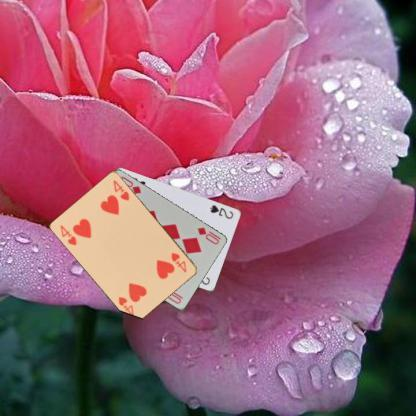10d: (195, 224, 223, 246)
2s: (208, 202, 235, 220)
4h: (58, 222, 78, 247), (168, 249, 187, 274)
